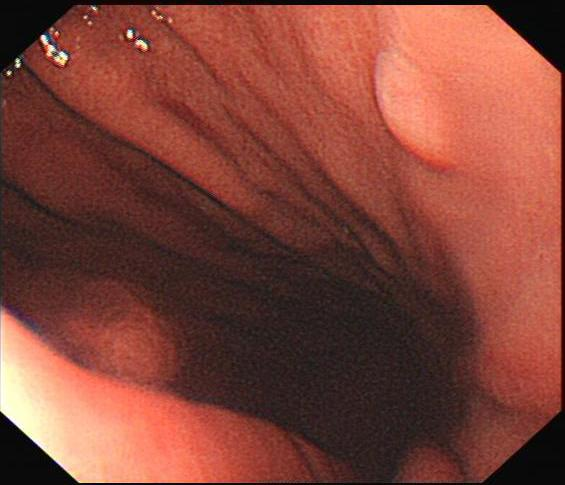Polyp: (369, 51, 454, 166)
